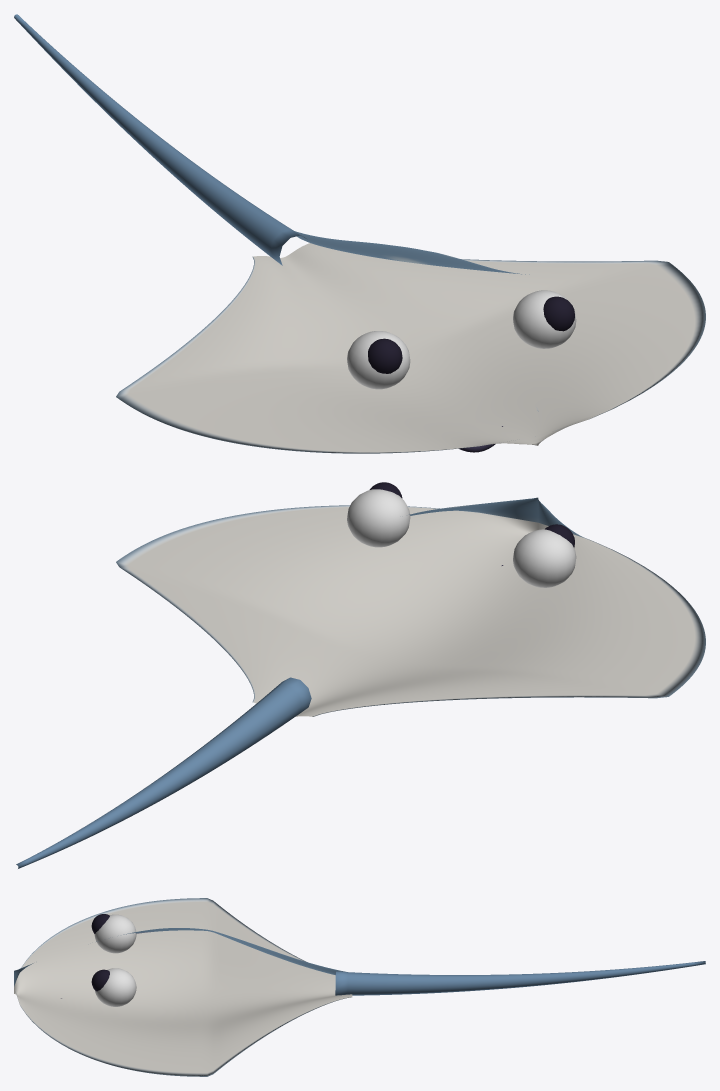
The model's file is ray.glb.
The picture shows the model from 3 angles, top to bottom: view 1: azimuth 30°, elevation 25°; view 2: azimuth 150°, elevation 25°; view 3: azimuth 270°, elevation 25°; orthographic projection. The views are drawn at different scales.
Parts seen in each view (by area): view 1: Ray; view 2: Ray; view 3: Ray.
Part boxes in pixels (bbox=[...]): Ray: bbox=[14, 14, 705, 453]; Ray: bbox=[16, 482, 705, 868]; Ray: bbox=[14, 898, 705, 1076].
Bounding box in the file's own units: 2 × 0.402 × 3.27.
